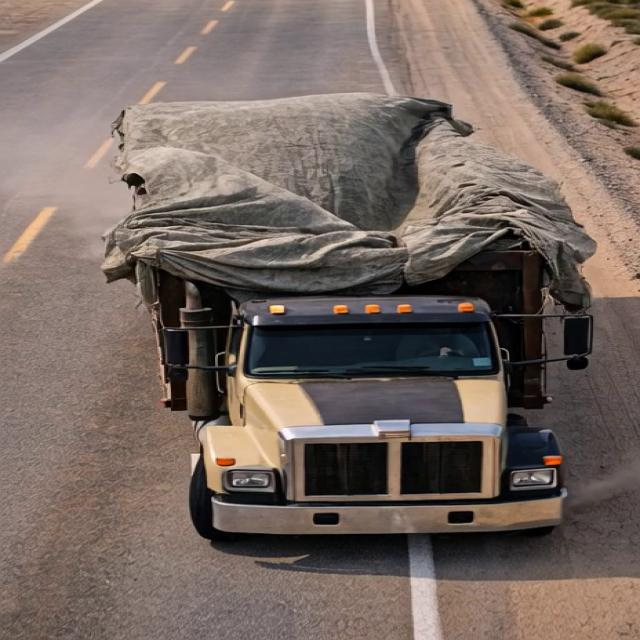trailer: (122, 86, 555, 323)
truck: (100, 77, 591, 543)
